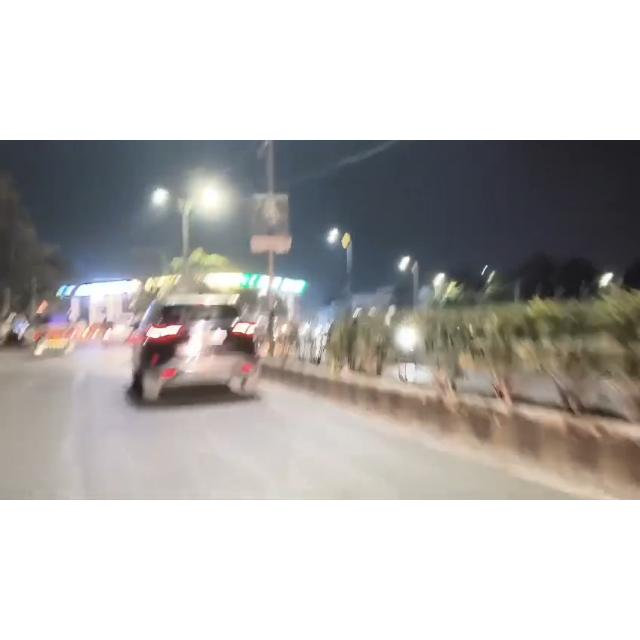car: (131, 294, 266, 398)
